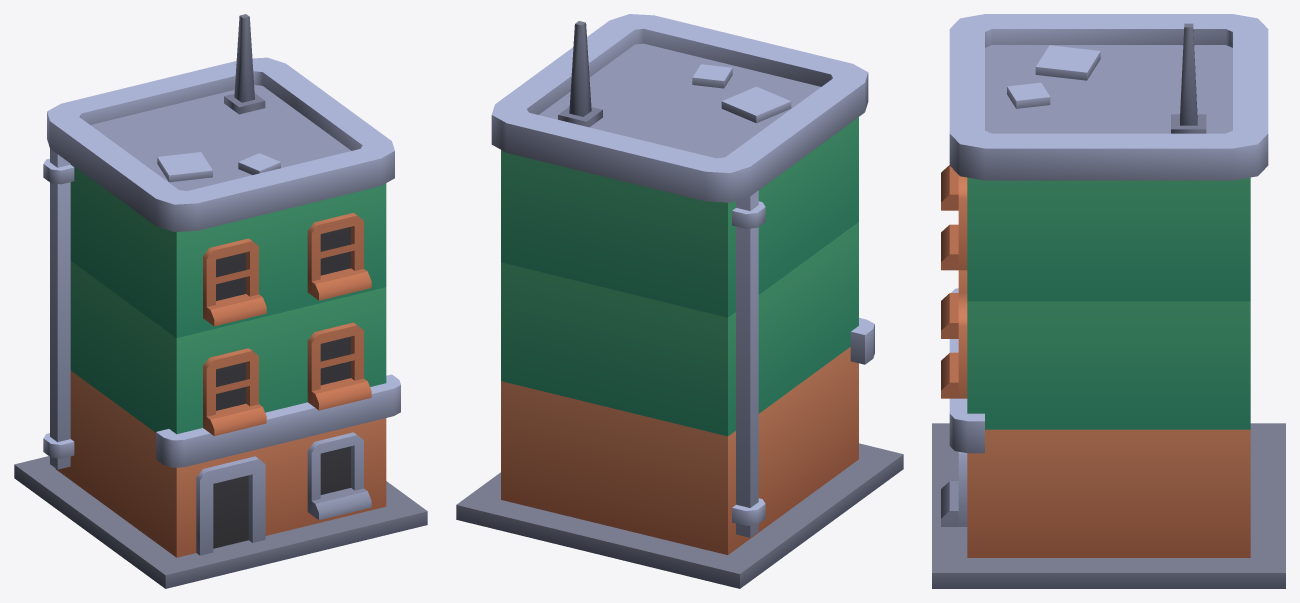
File: building-small-b.glb
The picture shows the model from 3 angles, left to right: view 1: azimuth 30°, elevation 25°; view 2: azimuth 150°, elevation 25°; view 3: azimuth 270°, elevation 25°; orthographic projection. The views are drawn at different scales.
Visible parts, largest first — view 1: building-small-b; view 2: building-small-b; view 3: building-small-b.
Boxes of the visible parts, box(x1,y1,x2,y2) form: building-small-b: box(14, 14, 427, 588); building-small-b: box(456, 14, 903, 588); building-small-b: box(932, 14, 1285, 588).
Bounding box in the file's own units: 1 × 1.63 × 1.
1 material, 1 textured.
